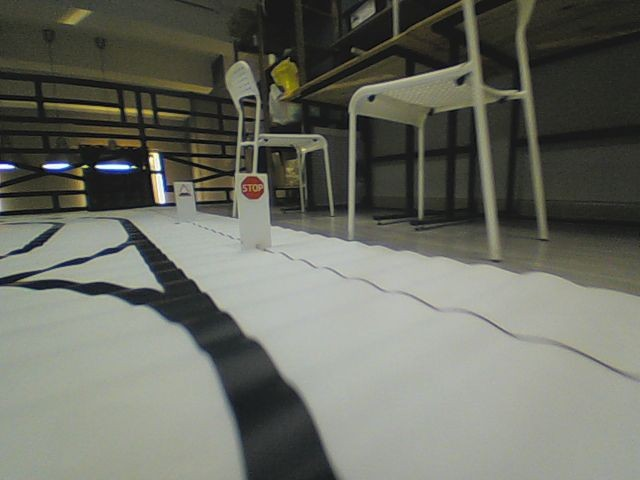Nerov: (177, 184, 191, 198)
Stop: (239, 174, 264, 200)
